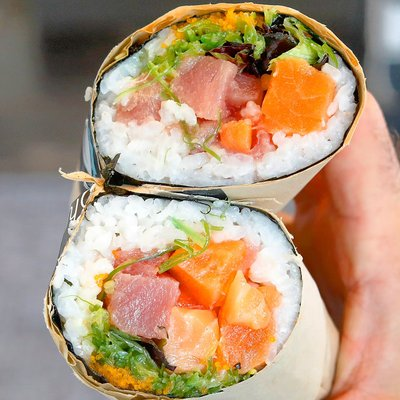pizza: (168, 266, 215, 309)
sandwich: (84, 3, 362, 190)
